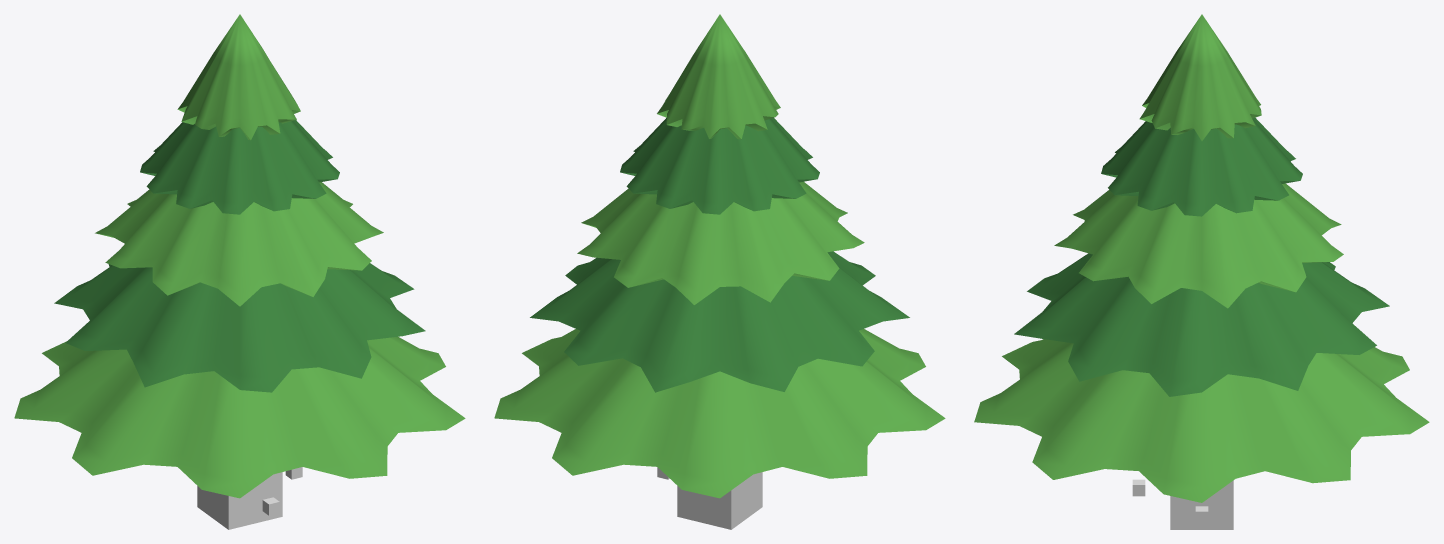
Rendered from Tree.fbx.
The picture shows the model from 3 angles, left to right: view 1: azimuth 30°, elevation 25°; view 2: azimuth 150°, elevation 25°; view 3: azimuth 270°, elevation 25°; orthographic projection.
Visible parts, largest first — view 1: Body__Leaf, Body__LeafDark, Origin__Pivot; view 2: Body__Leaf, Body__LeafDark, Origin__Pivot; view 3: Body__Leaf, Body__LeafDark, Origin__Pivot.
Boxes of the visible parts, left/top/right/bottom form: Body__Leaf: left=14, top=14, right=465, bottom=498; Body__LeafDark: left=54, top=120, right=425, bottom=392; Origin__Pivot: left=197, top=472, right=282, bottom=529; Body__Leaf: left=494, top=14, right=945, bottom=498; Body__LeafDark: left=530, top=117, right=909, bottom=392; Origin__Pivot: left=677, top=472, right=762, bottom=529; Body__Leaf: left=974, top=14, right=1429, bottom=502; Body__LeafDark: left=1014, top=117, right=1389, bottom=396; Origin__Pivot: left=1170, top=480, right=1233, bottom=529.
Bounding box in the file's own units: 7.13 × 8.8 × 7.23.
